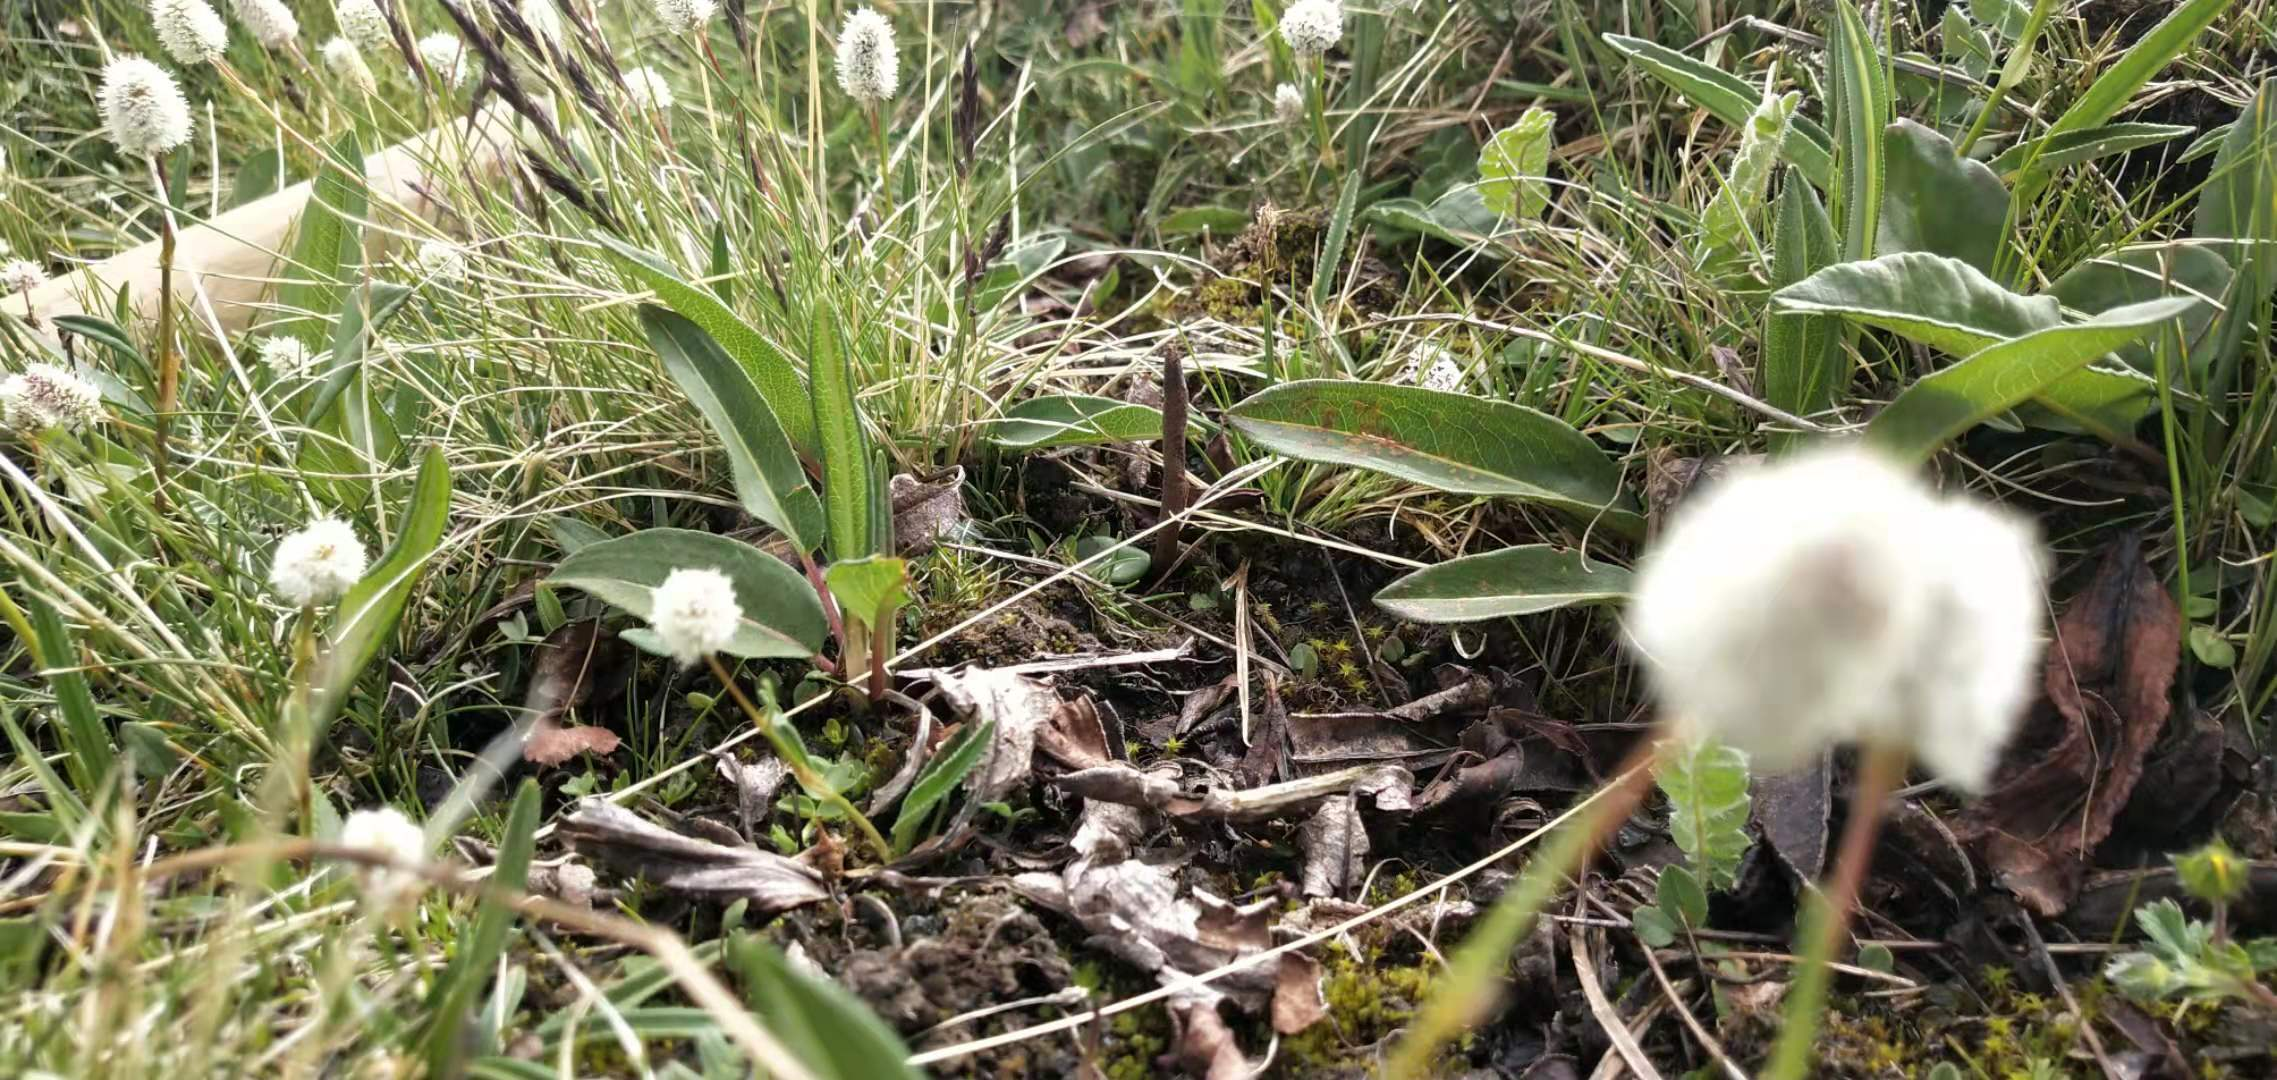cpf: (1141, 338, 1192, 569)
